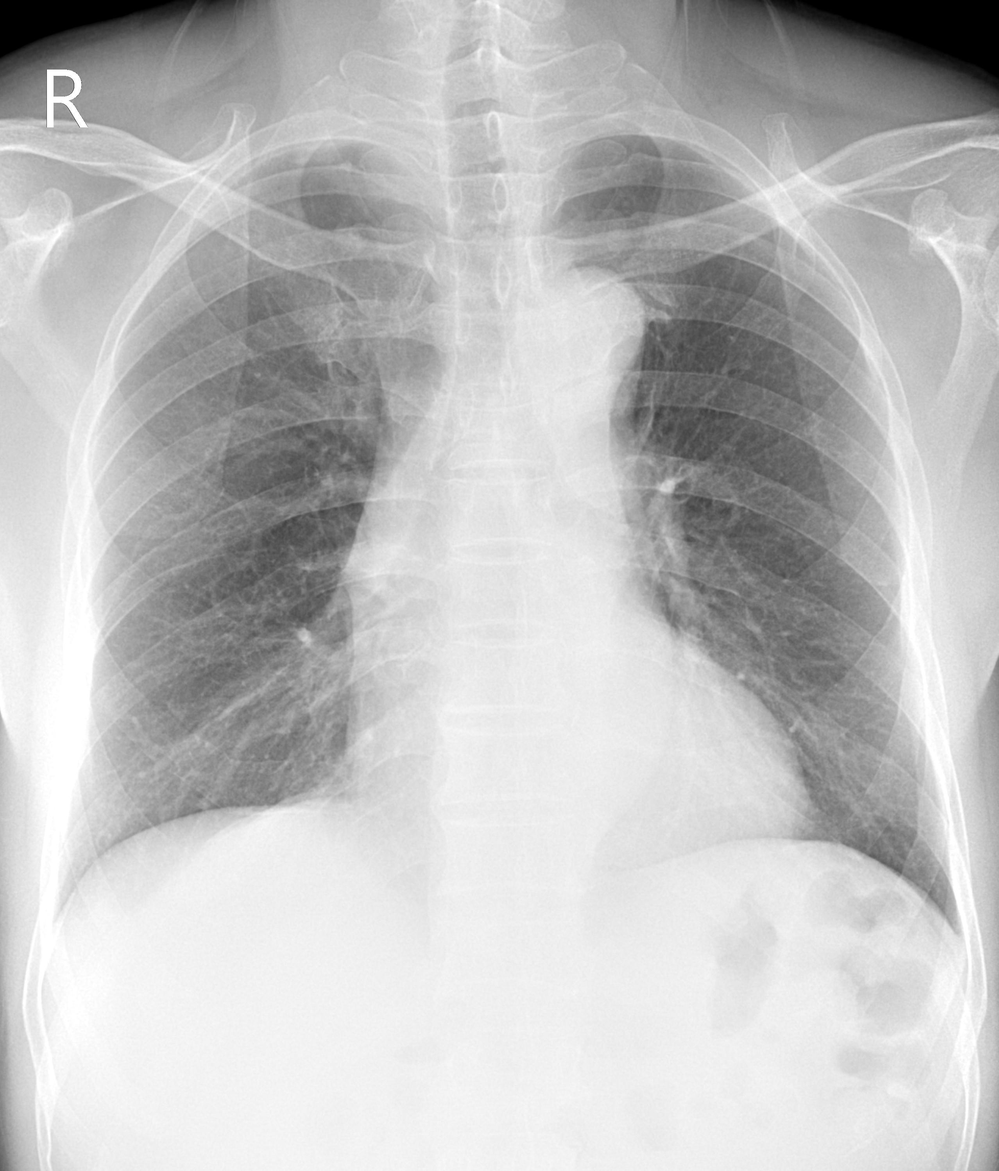Aortic enlargement: (511, 267, 646, 392)
Cardiomegaly: (342, 727, 810, 886)
Pleural thickening: (229, 136, 356, 180)
